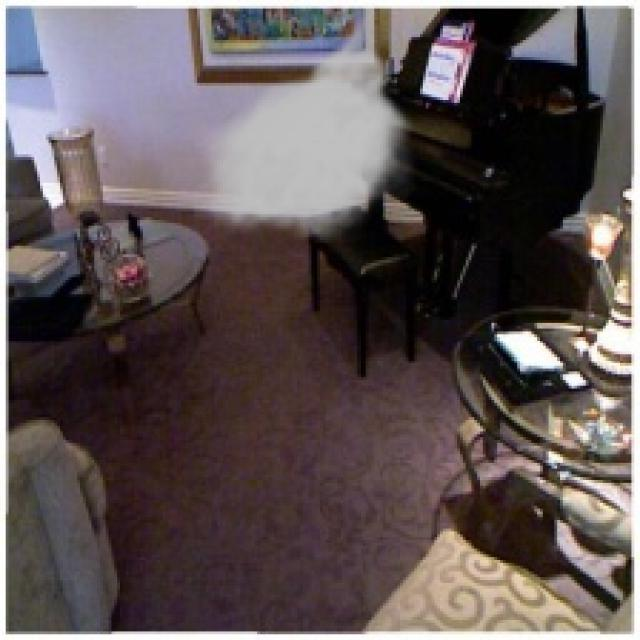Smoke: (192, 3, 418, 243)
